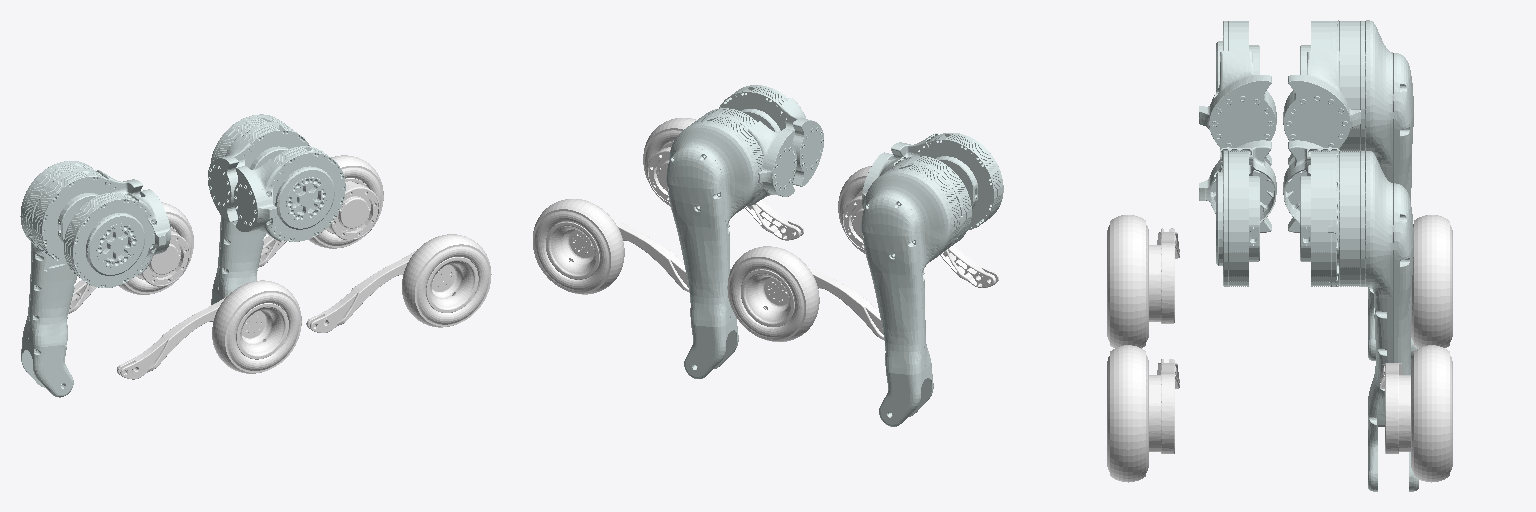
--- Facts derived from the render (not from the file) ---
Views: 3 orthographic renders of the robot side by side, from view 1: azimuth 30°, elevation 25°; view 2: azimuth 150°, elevation 25°; view 3: azimuth 270°, elevation 25°.
Model go2w_description with 33 links and 32 joints (12 revolute, 4 continuous, 16 fixed), rooted at base, posed all joints at 0 but 4 set to mid-range because 0 is outside their limits (FL_calf_joint = -1.78, FR_calf_joint = -1.78, RL_calf_joint = -1.78, RR_calf_joint = -1.78).
Visible links, largest first — view 1: FR_hip, RR_hip, RL_thigh, RR_foot, FR_foot, RL_hip, FL_thigh, FL_hip, FL_calf, FR_calf, RR_calf, RL_calf (+2 smaller); view 2: RL_thigh, FL_thigh, RL_foot, FL_foot, RR_hip, FR_hip, FL_hip, FR_calf, RR_calf, RL_hip, FL_calf, RL_calf (+2 smaller); view 3: FL_thigh, RL_thigh, FR_hip, RR_hip, RL_hip, FL_hip, FL_foot, FR_foot, RR_foot, RL_foot, RR_calf, FR_calf (+1 smaller).
Link boxes in pixels (x1=…): FR_hip: x1=234, y1=146, x2=345, y2=241; RR_hip: x1=64, y1=189, x2=170, y2=287; RL_thigh: x1=20, y1=161, x2=99, y2=397; RR_foot: x1=212, y1=280, x2=301, y2=373; FR_foot: x1=402, y1=234, x2=491, y2=327; RL_hip: x1=33, y1=170, x2=142, y2=264; FL_thigh: x1=211, y1=114, x2=288, y2=304; FL_hip: x1=208, y1=124, x2=310, y2=222; FL_calf: x1=257, y1=181, x2=379, y2=267; FR_calf: x1=306, y1=250, x2=455, y2=332; RR_calf: x1=117, y1=297, x2=265, y2=379; RL_calf: x1=67, y1=231, x2=189, y2=314; RL_thigh: x1=861, y1=162, x2=962, y2=426; FL_thigh: x1=666, y1=115, x2=763, y2=378; RL_foot: x1=727, y1=246, x2=819, y2=341; FL_foot: x1=533, y1=199, x2=624, y2=294; RR_hip: x1=891, y1=133, x2=1003, y2=229; FR_hip: x1=719, y1=85, x2=823, y2=186; FL_hip: x1=699, y1=108, x2=796, y2=205; FR_calf: x1=647, y1=146, x2=803, y2=240; RR_calf: x1=842, y1=195, x2=998, y2=287; RL_hip: x1=862, y1=152, x2=971, y2=245; FL_calf: x1=569, y1=216, x2=688, y2=291; RL_calf: x1=764, y1=263, x2=883, y2=339; FL_thigh: x1=1328, y1=151, x2=1418, y2=491; RL_thigh: x1=1336, y1=20, x2=1417, y2=360; FR_hip: x1=1199, y1=140, x2=1276, y2=286; RR_hip: x1=1199, y1=21, x2=1276, y2=165; RL_hip: x1=1283, y1=21, x2=1360, y2=165; FL_hip: x1=1283, y1=140, x2=1339, y2=286; FL_foot: x1=1411, y1=345, x2=1452, y2=482; FR_foot: x1=1107, y1=345, x2=1148, y2=482; RR_foot: x1=1107, y1=215, x2=1148, y2=348; RL_foot: x1=1411, y1=215, x2=1452, y2=348; RR_calf: x1=1149, y1=228, x2=1179, y2=323; FR_calf: x1=1149, y1=359, x2=1179, y2=453.
Size in the robot's own frame: 0.7792 by 0.432 by 0.4589 metres.
Meshes: 8 distinct files referenced, 14 mesh visuals loaded (2 binary STL, 4 Collada DAE); not drawn: 3 (reference not matched to a file when rendering).

The robot description file, URDF, robot "go2w_description":
<?xml version='1.0' encoding='utf-8'?>
<robot name="go2w_description">
  <link name="base">
    <inertial>
      <origin xyz="0.021112 0 -0.005366" rpy="0 0 0" />
      <mass value="6.921" />
      <inertia ixx="0.02448" ixy="0.00012166" ixz="0.0014849" iyy="0.098077" iyz="-3.12E-05" izz="0.107" />
    </inertial>
    <visual>
      <origin xyz="0 0 0" rpy="0 0 0" />
      <geometry>
        <mesh filename="package://go2w_description/dae/base.dae" />
      </geometry>
      <material name="深色橡胶_001-effect"><color rgba="0.6717055 0.6924257 0.7742702 1" /></material><material name="白色logo_001-effect"><color rgba="1 1 1 1" /></material><material name="黑色贴纸_007-effect"><color rgba="0.009018 0.009018 0.009018 1" /></material><material name="黑色金属_007-effect"><color rgba="0.01341 0.01341 0.01341 1" /></material><material name="黑色塑料_003-effect"><color rgba="0.023455 0.023455 0.023455 1" /></material></visual>
    <collision>
      <origin rpy="0 0 0" xyz="0 0 0" />
      <geometry>
        <box size="0.3762 0.0935 0.114" />
      </geometry>
    </collision>
  </link>
  <link name="Head_upper">
    <inertial>
      <origin xyz="0 0 0" rpy="0 0 0" />
      <mass value="0.001" />
      <inertia ixx="9.6e-06" ixy="0" ixz="0" iyy="9.6e-06" iyz="0" izz="9.6e-06" />
    </inertial>
    <collision>
      <origin xyz="0 0 0" rpy="0 0 0" />
      <geometry>
        <cylinder radius="0.06" length="0.09" />
      </geometry>
    </collision>
  </link>
  <joint name="Head_upper_joint" type="fixed" dont_collapse="true">
    <origin xyz="0.285 0 0.01" rpy="0 0 0" />
    <parent link="base" />
    <child link="Head_upper" />
    <axis xyz="0 0 0" />
  </joint>
  <link name="Head_lower">
    <inertial>
      <origin xyz="0 0 0" rpy="0 0 0" />
      <mass value="0.001" />
      <inertia ixx="9.6e-06" ixy="0" ixz="0" iyy="9.6e-06" iyz="0" izz="9.6e-06" />
    </inertial>
    <collision>
      <origin xyz="0 0 0" rpy="0 0 0" />
      <geometry>
        <sphere radius="0.06" />
      </geometry>
    </collision>
  </link>
  <joint name="Head_lower_joint" type="fixed" dont_collapse="true">
    <origin xyz="0.008 0 -0.07" rpy="0 0 0" />
    <parent link="Head_upper" />
    <child link="Head_lower" />
    <axis xyz="0 0 0" />
  </joint>
  <link name="FL_hip">
    <inertial>
      <origin xyz="-0.0054 0.00194 -0.000105" rpy="0 0 0" />
      <mass value="0.678" />
      <inertia ixx="0.00048" ixy="-3.01E-06" ixz="1.11E-06" iyy="0.000884" iyz="-1.42E-06" izz="0.000596" />
    </inertial>
    <visual>
      <origin xyz="0 0 0" rpy="0 0 0" />
      <geometry>
        <mesh filename="package://go2w_description/dae/hip.dae" />
      </geometry>
      <material name="深色橡胶_001-effect"><color rgba="0.6717055 0.6924257 0.7742702 1" /></material><material name="Material-effect"><color rgba="0.9 0.95 0.95 1" /></material></visual>
    <collision>
      <origin rpy="1.5707963267948966 0 0" xyz="0 0.08 0" />
      <geometry>
        <cylinder length="0.04" radius="0.046" />
      </geometry>
    </collision>
  </link>
  <joint name="FL_hip_joint" type="revolute">
    <origin xyz="0.1934 0.0465 0" rpy="0 0 0" />
    <parent link="base" />
    <child link="FL_hip" />
    <axis xyz="1 0 0" />
    <limit lower="-1.0472" upper="1.0472" effort="23.7" velocity="30.1" />
  </joint>
  <link name="FL_thigh">
    <inertial>
      <origin xyz="-0.00374 -0.0223 -0.0327" rpy="0 0 0" />
      <mass value="1.152" />
      <inertia ixx="0.00584" ixy="8.72E-05" ixz="-0.000289" iyy="0.0058" iyz="0.000808" izz="0.00103" />
    </inertial>
    <visual>
      <origin xyz="0 0 0" rpy="0 0 0" />
      <geometry>
        <mesh filename="package://go2w_description/dae/thigh.dae" />
      </geometry>
      <material name="深色橡胶_003-effect"><color rgba="0.6717055 0.6924257 0.7742702 1" /></material><material name="Material_009-effect"><color rgba="0.9 0.95 0.95 1" /></material></visual>
    <collision>
      <origin rpy="0 1.5707963267948966 0" xyz="0 0 -0.1065" />
      <geometry>
        <box size="0.11 0.0245 0.034" />
      </geometry>
    </collision>
  </link>
  <joint name="FL_thigh_joint" type="revolute">
    <origin xyz="0 0.0955 0" rpy="0 0 0" />
    <parent link="FL_hip" />
    <child link="FL_thigh" />
    <axis xyz="0 1 0" />
    <limit lower="-1.5707963267948966" upper="3.4907" effort="23.7" velocity="30.1" />
  </joint>
  <link name="FL_calf">
    <inertial>
      <origin xyz="0.00548 -0.000975 -0.115" rpy="0 0 0" />
      <mass value="0.154" />
      <inertia ixx="0.00108" ixy="3.4E-07" ixz="1.72E-05" iyy="0.0011" iyz="8.28E-06" izz="3.29E-05" />
    </inertial>
    <visual>
      <origin xyz="0 0 0" rpy="0 0 0" />
      <geometry>
        <mesh filename="package://go2w_description/dae/calf.stl" />
      </geometry>
      <material name="">
        <color rgba="1 1 1 1" />
      </material>
    </visual>
    <collision>
      <origin rpy="0 -0.21 0" xyz="0.008 0 -0.06" />
      <geometry>
        <cylinder length="0.12" radius="0.012" />
      </geometry>
    </collision>
  </link>
  <joint name="FL_calf_joint" type="revolute">
    <origin xyz="0 0 -0.213" rpy="0 0 0" />
    <parent link="FL_thigh" />
    <child link="FL_calf" />
    <axis xyz="0 1 0" />
    <limit lower="-2.7227" upper="-0.83776" effort="35.55" velocity="20.07" />
  </joint>
  <link name="FL_calflower">
    <collision>
      <origin rpy="0 0 0" xyz="0 0 0" />
      <geometry>
        <cylinder length="0.065" radius="0.011" />
      </geometry>
    </collision>
  </link>
  <joint name="FL_calflower_joint" type="fixed">
    <origin xyz="0.020 0 -0.148" rpy="0 0.05 0" />
    <parent link="FL_calf" />
    <child link="FL_calflower" />
    <axis xyz="0 0 0" />
  </joint>
  <link name="FL_calflower1">
    <collision>
      <origin rpy="0 0 0" xyz="0 0 0" />
      <geometry>
        <cylinder length="0.03" radius="0.0155" />
      </geometry>
    </collision>
  </link>
  <joint name="FL_calflower1_joint" type="fixed">
    <origin xyz="-0.01 0 -0.04" rpy="0 0.48 0" />
    <parent link="FL_calflower" />
    <child link="FL_calflower1" />
    <axis xyz="0 0 0" />
  </joint>

  <link name="FL_foot_motor">
    <inertial>
      <origin xyz="0 0.0 0" rpy="0 0 0" />
      <mass value="0.646" />
      <inertia ixx="0.001" ixy="0" ixz="0" iyy="0.0016" iyz="0" izz="0.001" />
    </inertial>
    <collision>
      <origin rpy="1.5707963267948966 0 0" xyz="0 0 0" />
      <geometry>
        <cylinder length="0.05" radius="0.05" />
      </geometry>
    </collision>
  </link>

  <joint name="FL_foot_motor_joint" type="fixed">
    <origin xyz="-0.00 0.01 -0.2264" rpy="0 0.0 0" />
    <parent link="FL_calf" />
    <child link="FL_foot_motor" />
    <axis xyz="0 0 0" />
  </joint>

  <link name="FL_foot">
    <inertial>
      <origin xyz="0 0.06 0" rpy="0 0 0" />
      <mass value="0.520" />
      <inertia ixx="0.0007" ixy="0" ixz="0" iyy="0.0012" iyz="0" izz="0.0007" />
    </inertial>
    <visual>
      <origin xyz="0 0 0" rpy="0 0 0" />
      <geometry>
        <mesh filename="package://go2w_description/dae/left_wheel.dae" />
      </geometry>
      <material name="">
        <color rgba="1 1 1 1" />
      </material>
    </visual>
    <collision>
      <origin rpy="0 0 0" xyz="0 0.0 0" />
      <geometry>
        <mesh filename="package://go2w_description/dae/left_wheel.dae" />
      </geometry>
    </collision>
  </link>
  <joint name="FL_foot_joint" type="continuous">
    <origin xyz="0 0 -0.2264" rpy="0 0 0" />
    <parent link="FL_calf" />
    <child link="FL_foot" />
    <axis xyz="0 1 0" />
      
      <limit effort="23.7" velocity="30.1" />
  </joint>
  
  <link name="FR_hip">
    <inertial>
      <origin xyz="-0.0054 -0.00194 -0.000105" rpy="0 0 0" />
      <mass value="0.678" />
      <inertia ixx="0.00048" ixy="3.01E-06" ixz="1.11E-06" iyy="0.000884" iyz="1.42E-06" izz="0.000596" />
    </inertial>
    <visual>
      <origin xyz="0 0 0" rpy="3.1415 0 0" />
      <geometry>
        <mesh filename="package://go2w_description/dae/hip.dae" />
      </geometry>
      <material name="深色橡胶_001-effect"><color rgba="0.6717055 0.6924257 0.7742702 1" /></material><material name="Material-effect"><color rgba="0.9 0.95 0.95 1" /></material></visual>
    <collision>
      <origin rpy="1.5707963267948966 0 0" xyz="0 -0.08 0" />
      <geometry>
        <cylinder length="0.04" radius="0.046" />
      </geometry>
    </collision>
  </link>
  <joint name="FR_hip_joint" type="revolute">
    <origin xyz="0.1934 -0.0465 0" rpy="0 0 0" />
    <parent link="base" />
    <child link="FR_hip" />
    <axis xyz="1 0 0" />
    <limit lower="-1.0472" upper="1.0472" effort="23.7" velocity="30.1" />
  </joint>
  <link name="FR_thigh">
    <inertial>
      <origin xyz="-0.00374 0.0223 -0.0327" rpy="0 0 0" />
      <mass value="1.152" />
      <inertia ixx="0.00584" ixy="-8.72E-05" ixz="-0.000289" iyy="0.0058" iyz="-0.000808" izz="0.00103" />
    </inertial>
    <visual>
      <origin xyz="0 0 0" rpy="0 0 0" />
      <geometry>
        <mesh filename="package://go2w_description/dae/thigh_mirror.dae" />
      </geometry>
      <material name="深色橡胶_012-effect"><color rgba="0.6717055 0.6924257 0.7742702 1" /></material><material name="Material_011-effect"><color rgba="0.9 0.95 0.95 1" /></material></visual>
    <collision>
      <origin rpy="0 1.5707963267948966 0" xyz="0 0 -0.1065" />
      <geometry>
        <box size="0.11 0.0245 0.034" />
      </geometry>
    </collision>
  </link>
  <joint name="FR_thigh_joint" type="revolute">
    <origin xyz="0 -0.0955 0" rpy="0 0 0" />
    <parent link="FR_hip" />
    <child link="FR_thigh" />
    <axis xyz="0 1 0" />
    <limit lower="-1.5707963267948966" upper="3.4907" effort="23.7" velocity="30.1" />
  </joint>
  <link name="FR_calf">
    <inertial>
      <origin xyz="0.00548 0.000975 -0.115" rpy="0 0 0" />
      <mass value="0.154" />
      <inertia ixx="0.00108" ixy="-3.4E-07" ixz="1.72E-05" iyy="0.0011" iyz="-8.28E-06" izz="3.29E-05" />
    </inertial>
    <visual>
      <origin xyz="0 0 0" rpy="0 0 0" />
      <geometry>
        <mesh filename="package://go2w_description/dae/calf_mirror.stl" />
      </geometry>
      <material name="">
        <color rgba="1 1 1 1" />
      </material>
    </visual>
    <collision>
      <origin rpy="0 -0.2 0" xyz="0.01 0 -0.06" />
      <geometry>
        <cylinder length="0.12" radius="0.013" />
      </geometry>
    </collision>
  </link>
  <joint name="FR_calf_joint" type="revolute">
    <origin xyz="0 0 -0.213" rpy="0 0 0" />
    <parent link="FR_thigh" />
    <child link="FR_calf" />
    <axis xyz="0 1 0" />
    <limit lower="-2.7227" upper="-0.83776" effort="35.55" velocity="20.07" />
  </joint>
  <link name="FR_calflower">
    <collision>
      <origin rpy="0 0 0" xyz="0 0 0" />
      <geometry>
        <cylinder length="0.065" radius="0.011" />
      </geometry>
    </collision>
  </link>
  <joint name="FR_calflower_joint" type="fixed">
    <origin xyz="0.020 0 -0.148" rpy="0 0.05 0" />
    <parent link="FR_calf" />
    <child link="FR_calflower" />
    <axis xyz="0 0 0" />
  </joint>
  <link name="FR_calflower1">
    <collision>
      <origin rpy="0 0 0" xyz="0 0 0" />
      <geometry>
        <cylinder length="0.03" radius="0.0155" />
      </geometry>
    </collision>
  </link>
  <joint name="FR_calflower1_joint" type="fixed">
    <origin xyz="-0.01 0 -0.04" rpy="0 0.48 0" />
    <parent link="FR_calflower" />
    <child link="FR_calflower1" />
    <axis xyz="0 0 0" />
  </joint>

  <link name="FR_foot_motor">
    <inertial>
      <origin xyz="0 0.0 0" rpy="0 0 0" />
      <mass value="0.646" />
      <inertia ixx="0.001" ixy="0" ixz="0" iyy="0.0016" iyz="0" izz="0.001" />
    </inertial>
    <collision>
      <origin rpy="1.5707963267948966 0 0" xyz="0 0 0" />
      <geometry>
        <cylinder length="0.05" radius="0.05" />
      </geometry>
    </collision>
  </link>

  <joint name="FR_foot_motor_joint" type="fixed">
    <origin xyz="0.0 -0.01 -0.2264" rpy="0 0.0 0" />
    <parent link="FR_calf" />
    <child link="FR_foot_motor" />
    <axis xyz="0 0 0" />
  </joint>

  <link name="FR_foot">
    <inertial>
      <origin xyz="0 -0.06 0" rpy="0 0 0" />
      <mass value="0.520" />
      <inertia ixx="0.0007" ixy="0" ixz="0" iyy="0.0012" iyz="0" izz="0.0007" />
    </inertial>
    <visual>
      <origin xyz="0 0 0" rpy="0 0 0" />
      <geometry>
        <mesh filename="package://go2w_description/dae/right_wheel.dae" />
      </geometry>
      <material name="">
        <color rgba="1 1 1 1" />
      </material>
    </visual>
    <collision>
      <origin rpy="0 0 0" xyz="0 -0.0 0" />
      <geometry>
        <mesh filename="package://go2w_description/dae/right_wheel.dae" />
        
      </geometry>
    </collision>
  </link>
  <joint name="FR_foot_joint" type="continuous">
    <origin xyz="0 0 -0.2264" rpy="0 0 0" />
    <parent link="FR_calf" />
    <child link="FR_foot" />
    <axis xyz="0 1 0" />
      <limit effort="23.7" velocity="30.1" />
  </joint>

  <link name="RL_hip">
    <inertial>
      <origin xyz="0.0054 0.00194 -0.000105" rpy="0 0 0" />
      <mass value="0.678" />
      <inertia ixx="0.00048" ixy="3.01E-06" ixz="-1.11E-06" iyy="0.000884" iyz="-1.42E-06" izz="0.000596" />
    </inertial>
    <visual>
      <origin xyz="0 0 0" rpy="0 3.1415 0" />
      <geometry>
        <mesh filename="package://go2w_description/dae/hip.dae" />
      </geometry>
      <material name="深色橡胶_001-effect"><color rgba="0.6717055 0.6924257 0.7742702 1" /></material><material name="Material-effect"><color rgba="0.9 0.95 0.95 1" /></material></visual>
    <collision>
      <origin rpy="1.5707963267948966 0 0" xyz="0 0.08 0" />
      <geometry>
        <cylinder length="0.04" radius="0.046" />
      </geometry>
    </collision>
  </link>
  <joint name="RL_hip_joint" type="revolute">
    <origin xyz="-0.1934 0.0465 0" rpy="0 0 0" />
    <parent link="base" />
    <child link="RL_hip" />
    <axis xyz="1 0 0" />
    <limit lower="-1.0472" upper="1.0472" effort="23.7" velocity="30.1" />
  </joint>
  <link name="RL_thigh">
    <inertial>
      <origin xyz="-0.00374 -0.0223 -0.0327" rpy="0 0 0" />
      <mass value="1.152" />
      <inertia ixx="0.00584" ixy="8.72E-05" ixz="-0.000289" iyy="0.0058" iyz="0.000808" izz="0.00103" />
    </inertial>
    <visual>
      <origin xyz="0 0 0" rpy="0 0 0" />
      <geometry>
        <mesh filename="package://go2w_description/dae/thigh.dae" />
      </geometry>
      <material name="深色橡胶_003-effect"><color rgba="0.6717055 0.6924257 0.7742702 1" /></material><material name="Material_009-effect"><color rgba="0.9 0.95 0.95 1" /></material></visual>
    <collision>
      <origin rpy="0 1.5707963267948966 0" xyz="0 0 -0.1065" />
      <geometry>
        <box size="0.11 0.0245 0.034" />
      </geometry>
    </collision>
  </link>
  <joint name="RL_thigh_joint" type="revolute">
    <origin xyz="0 0.0955 0" rpy="0 0 0" />
    <parent link="RL_hip" />
    <child link="RL_thigh" />
    <axis xyz="0 1 0" />
    <limit lower="-0.5236" upper="4.5379" effort="23.7" velocity="30.1" />
  </joint>
  <link name="RL_calf">
    <inertial>
      <origin xyz="0.00548 -0.000975 -0.115" rpy="0 0 0" />
      <mass value="0.154" />
      <inertia ixx="0.00108" ixy="3.4E-07" ixz="1.72E-05" iyy="0.0011" iyz="8.28E-06" izz="3.29E-05" />
    </inertial>
    <visual>
      <origin xyz="0 0 0" rpy="0 0 0" />
      <geometry>
        <mesh filename="package://go2w_description/dae/calf.stl" />
      </geometry>
      <material name="">
        <color rgba="1 1 1 1" />
      </material>
    </visual>
    <collision>
      <origin rpy="0 -0.2 0" xyz="0.01 0 -0.06" />
      <geometry>
        <cylinder length="0.12" radius="0.013" />
      </geometry>
    </collision>
  </link>
  <joint name="RL_calf_joint" type="revolute">
    <origin xyz="0 0 -0.213" rpy="0 0 0" />
    <parent link="RL_thigh" />
    <child link="RL_calf" />
    <axis xyz="0 1 0" />
    <limit lower="-2.7227" upper="-0.83776" effort="35.55" velocity="20.07" />
  </joint>
  <link name="RL_calflower">
    <collision>
      <origin rpy="0 0 0" xyz="0 0 0" />
      <geometry>
        <cylinder length="0.065" radius="0.011" />
      </geometry>
    </collision>
  </link>
  <joint name="RL_calflower_joint" type="fixed">
    <origin xyz="0.020 0 -0.148" rpy="0 0.05 0" />
    <parent link="RL_calf" />
    <child link="RL_calflower" />
    <axis xyz="0 0 0" />
  </joint>
  <link name="RL_calflower1">
    <collision>
      <origin rpy="0 0 0" xyz="0 0 0" />
      <geometry>
        <cylinder length="0.03" radius="0.0155" />
      </geometry>
    </collision>
  </link>
  <joint name="RL_calflower1_joint" type="fixed">
    <origin xyz="-0.01 0 -0.04" rpy="0 0.48 0" />
    <parent link="RL_calflower" />
    <child link="RL_calflower1" />
    <axis xyz="0 0 0" />
  </joint>

  <link name="RL_foot_motor">
  <inertial>
    <origin xyz="0 0.0 0" rpy="0 0 0" />
    <mass value="0.646" />
    <inertia ixx="0.001" ixy="0" ixz="0" iyy="0.0016" iyz="0" izz="0.001" />
  </inertial>
  <collision>
    <origin rpy="1.5707963267948966 0 0" xyz="0 0 0" />
    <geometry>
      <cylinder length="0.05" radius="0.05" />
    </geometry>
  </collision>
</link>

<joint name="RL_foot_motor_joint" type="fixed">
  <origin xyz="0.00 0.01 -0.2264" rpy="0 0.0 0" />
  <parent link="RL_calf" />
  <child link="RL_foot_motor" />
  <axis xyz="0 0 0" />
</joint>


  <link name="RL_foot">
    <inertial>
      <origin xyz="0 0.06 0" rpy="0 0 0" />
      <mass value="0.520" />
      <inertia ixx="0.0007" ixy="0" ixz="0" iyy="0.0012" iyz="0" izz="0.0007" />
    </inertial>
    <visual>
      <origin xyz="0 0 0" rpy="0 0 0" />
      <geometry>
        <mesh filename="package://go2w_description/dae/left_wheel.dae" />
      </geometry>
      <material name="">
        <color rgba="1 1 1 1" />
      </material>
    </visual>
    <collision>
      <origin rpy="0 0 0" xyz="0 0.0 0" />
      <geometry>
        <mesh filename="package://go2w_description/dae/left_wheel.dae" />
        
      </geometry>
    </collision>
  </link>
  <joint name="RL_foot_joint" type="continuous">
    <origin xyz="0.0 0 -0.2264" rpy="0 0 0" />
    <parent link="RL_calf" />
    <child link="RL_foot" />
    <axis xyz="0 1 0" />
      <limit effort="23.7" velocity="30.1" />
  </joint>

  <link name="RR_hip">
    <inertial>
      <origin xyz="0.0054 -0.00194 -0.000105" rpy="0 0 0" />
      <mass value="0.678" />
      <inertia ixx="0.00048" ixy="-3.01E-06" ixz="-1.11E-06" iyy="0.000884" iyz="1.42E-06" izz="0.000596" />
    </inertial>
    <visual>
      <origin xyz="0 0 0" rpy="3.1415 3.1415 0" />
      <geometry>
        <mesh filename="package://go2w_description/dae/hip.dae" />
      </geometry>
      <material name="深色橡胶_001-effect"><color rgba="0.6717055 0.6924257 0.7742702 1" /></material><material name="Material-effect"><color rgba="0.9 0.95 0.95 1" /></material></visual>
    <collision>
      <origin rpy="1.5707963267948966 0 0" xyz="0 -0.08 0" />
      <geometry>
        <cylinder length="0.04" radius="0.046" />
      </geometry>
    </collision>
  </link>
  <joint name="RR_hip_joint" type="revolute">
    <origin xyz="-0.1934 -0.0465 0" rpy="0 0 0" />
    <parent link="base" />
    <child link="RR_hip" />
    <axis xyz="1 0 0" />
    <limit lower="-1.0472" upper="1.0472" effort="23.7" velocity="30.1" />
  </joint>
  <link name="RR_thigh">
    <inertial>
      <origin xyz="-0.00374 0.0223 -0.0327" rpy="0 0 0" />
      <mass value="1.152" />
      <inertia ixx="0.00584" ixy="-8.72E-05" ixz="-0.000289" iyy="0.0058" iyz="-0.000808" izz="0.00103" />
    </inertial>
    <visual>
      <origin xyz="0 0 0" rpy="0 0 0" />
      <geometry>
        <mesh filename="package://go2w_description/dae/thigh_mirror.dae" />
      </geometry>
      <material name="深色橡胶_012-effect"><color rgba="0.6717055 0.6924257 0.7742702 1" /></material><material name="Material_011-effect"><color rgba="0.9 0.95 0.95 1" /></material></visual>
    <collision>
      <origin rpy="0 1.5707963267948966 0" xyz="0 0 -0.1065" />
      <geometry>
        <box size="0.11 0.0245 0.034" />
      </geometry>
    </collision>
  </link>
  <joint name="RR_thigh_joint" type="revolute">
    <origin xyz="0 -0.0955 0" rpy="0 0 0" />
    <parent link="RR_hip" />
    <child link="RR_thigh" />
    <axis xyz="0 1 0" />
    <limit lower="-0.5236" upper="4.5379" effort="23.7" velocity="30.1" />
  </joint>
  <link name="RR_calf">
    <inertial>
      <origin xyz="0.00548 0.000975 -0.115" rpy="0 0 0" />
      <mass value="0.154" />
      <inertia ixx="0.00108" ixy="-3.4E-07" ixz="1.72E-05" iyy="0.0011" iyz="-8.28E-06" izz="3.29E-05" />
    </inertial>
    <visual>
      <origin xyz="0 0 0" rpy="0 0 0" />
      <geometry>
        <mesh filename="package://go2w_description/dae/calf_mirror.stl" />
      </geometry>
      <material name="">
        <color rgba="1 1 1 1" />
      </material>
    </visual>
    <collision>
      <origin rpy="0 -0.2 0" xyz="0.01 0 -0.06" />
      <geometry>
        <cylinder length="0.12" radius="0.013" />
      </geometry>
    </collision>
  </link>
  <joint name="RR_calf_joint" type="revolute">
    <origin xyz="0 0 -0.213" rpy="0 0 0" />
    <parent link="RR_thigh" />
    <child link="RR_calf" />
    <axis xyz="0 1 0" />
    <limit lower="-2.7227" upper="-0.83776" effort="35.55" velocity="20.07" />
  </joint>
  <link name="RR_calflower">
    <collision>
      <origin rpy="0 0 0" xyz="0 0 0" />
      <geometry>
        <cylinder length="0.065" radius="0.011" />
      </geometry>
    </collision>
  </link>
  <joint name="RR_calflower_joint" type="fixed">
    <origin xyz="0.020 0 -0.148" rpy="0 0.05 0" />
    <parent link="RR_calf" />
    <child link="RR_calflower" />
    <axis xyz="0 0 0" />
  </joint>
  <link name="RR_calflower1">
    <collision>
      <origin rpy="0 0 0" xyz="0 0 0" />
      <geometry>
        <cylinder length="0.03" radius="0.0155" />
      </geometry>
    </collision>
  </link>
  <joint name="RR_calflower1_joint" type="fixed">
    <origin xyz="-0.01 0 -0.04" rpy="0 0.48 0" />
    <parent link="RR_calflower" />
    <child link="RR_calflower1" />
    <axis xyz="0 0 0" />
  </joint>

  <link name="RR_foot_motor">
  <inertial>
    <origin xyz="0 0.0 0" rpy="0 0 0" />
    <mass value="0.646" />
    <inertia ixx="0.001" ixy="0" ixz="0" iyy="0.0016" iyz="0" izz="0.001" />
  </inertial>
  <collision>
    <origin rpy="1.5707963267948966 0 0" xyz="0 0 0" />
    <geometry>
      <cylinder length="0.05" radius="0.05" />
    </geometry>
  </collision>
</link>

<joint name="RR_foot_motor_joint" type="fixed">
  <origin xyz="0.00 -0.01 -0.2264" rpy="0 0.0 0" />
  <parent link="RR_calf" />
  <child link="RR_foot_motor" />
  <axis xyz="0 0 0" />
</joint>

  <link name="RR_foot">
    <inertial>
      <origin xyz="0 -0.06 0" rpy="0 0 0" />
      <mass value="0.520" />
      <inertia ixx="0.0007" ixy="0" ixz="0" iyy="0.0012" iyz="0" izz="0.0007" />
    </inertial>
    <visual>
      <origin xyz="0 0 0" rpy="0 0 0" />
      <geometry>
        <mesh filename="package://go2w_description/dae/right_wheel.dae" />
      </geometry>
      <material name="">
        <color rgba="1 1 1 1" />
      </material>
    </visual>
    <collision>
      <origin rpy="0 0 0" xyz="0 -0.0 0" />
      <geometry>
        <mesh filename="package://go2w_description/dae/right_wheel.dae" />
        
      </geometry>
    </collision>
  </link>
  <joint name="RR_foot_joint" type="continuous">
    <origin xyz="-0.0 0 -0.2264" rpy="0 0 0" />
    <parent link="RR_calf" />
    <child link="RR_foot" />
    <axis xyz="0 1 0" />
      <limit effort="23.7" velocity="30.1" />
  </joint>
  <link name="imu">
    <inertial>
      <origin xyz="0 0 0" rpy="0 0 0" />
      <mass value="0" />
      <inertia ixx="0" ixy="0" ixz="0" iyy="0" iyz="0" izz="0" />
    </inertial>
  </link>
  <joint name="imu_joint" type="fixed">
    <origin xyz="-0.02557 0 0.04232" rpy="0 0 0" />
    <parent link="base" />
    <child link="imu" />
    <axis xyz="0 0 0" />
  </joint>
  <link name="radar">
    <inertial>
      <origin xyz="0 0 0" rpy="0 0 0" />
      <mass value="0" />
      <inertia ixx="0" ixy="0" ixz="0" iyy="0" iyz="0" izz="0" />
    </inertial>
  </link>
  <joint name="radar_joint" type="fixed">
    <origin xyz="0.28945 0 -0.046825" rpy="0 2.8782 0" />
    <parent link="base" />
    <child link="radar" />
    <axis xyz="0 0 0" />
  </joint>
</robot>
